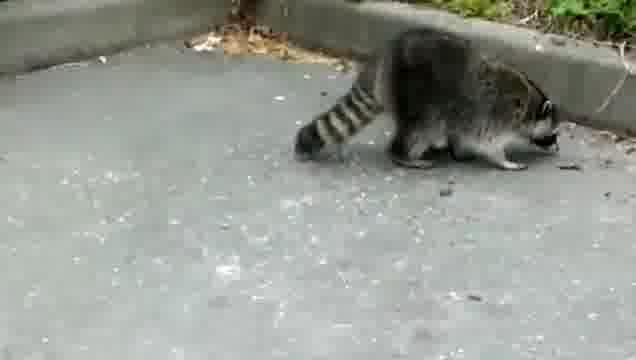raccoon: (294, 26, 562, 171)
